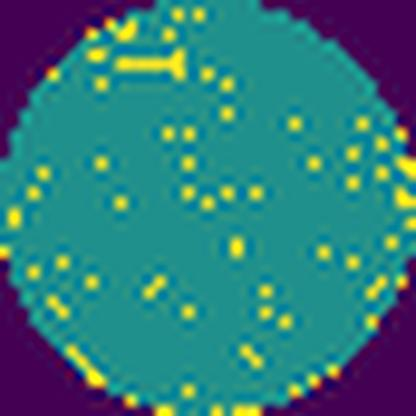Scratch: (112, 43, 191, 87)
